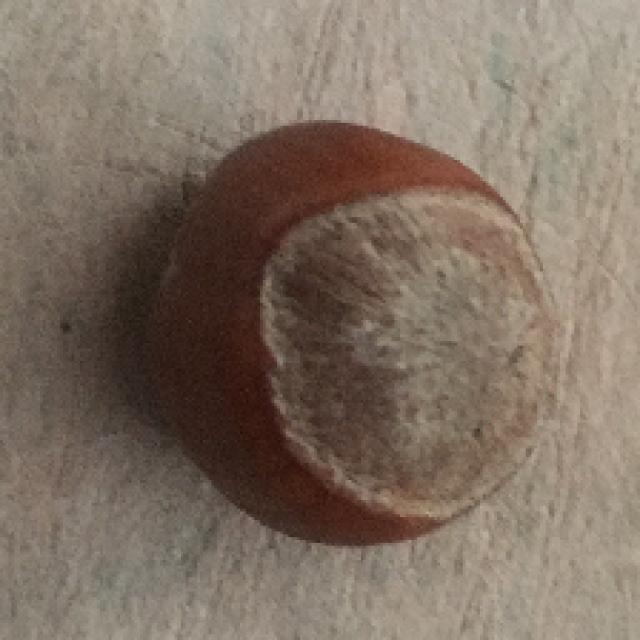qualityHazelnut: (145, 97, 561, 573)
